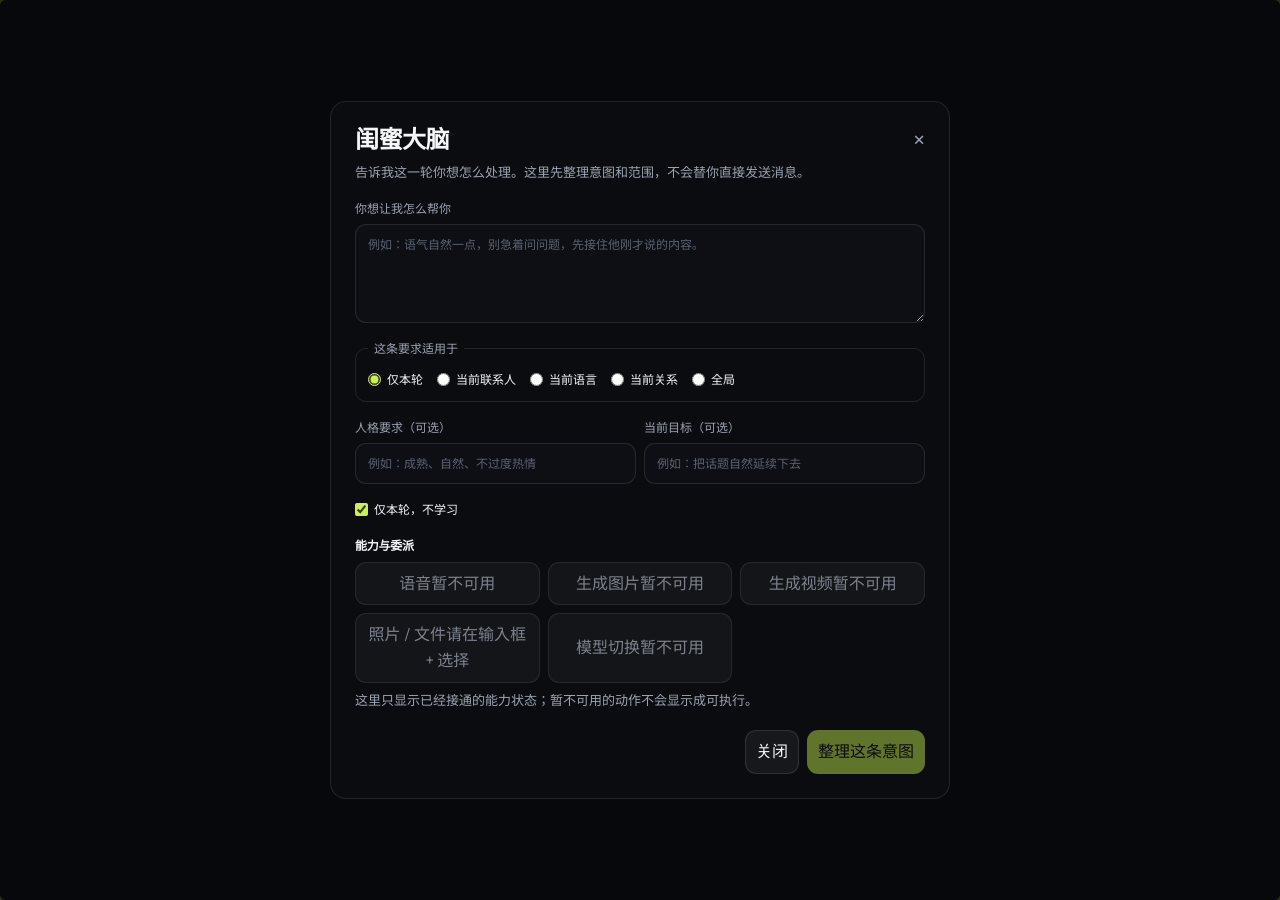
Test case: YanceGirlfriendBrainNativeComposition › stages a semantic intent draft without sending a conversation message
Type "先接住对方刚才的信息，再自然延续。" into the text box labelled "你想让我怎么帮你".
click(640, 273); type("先接住对方刚才的信息，再自然延续。")  # box top-left (355, 224), bottom-right (925, 323)
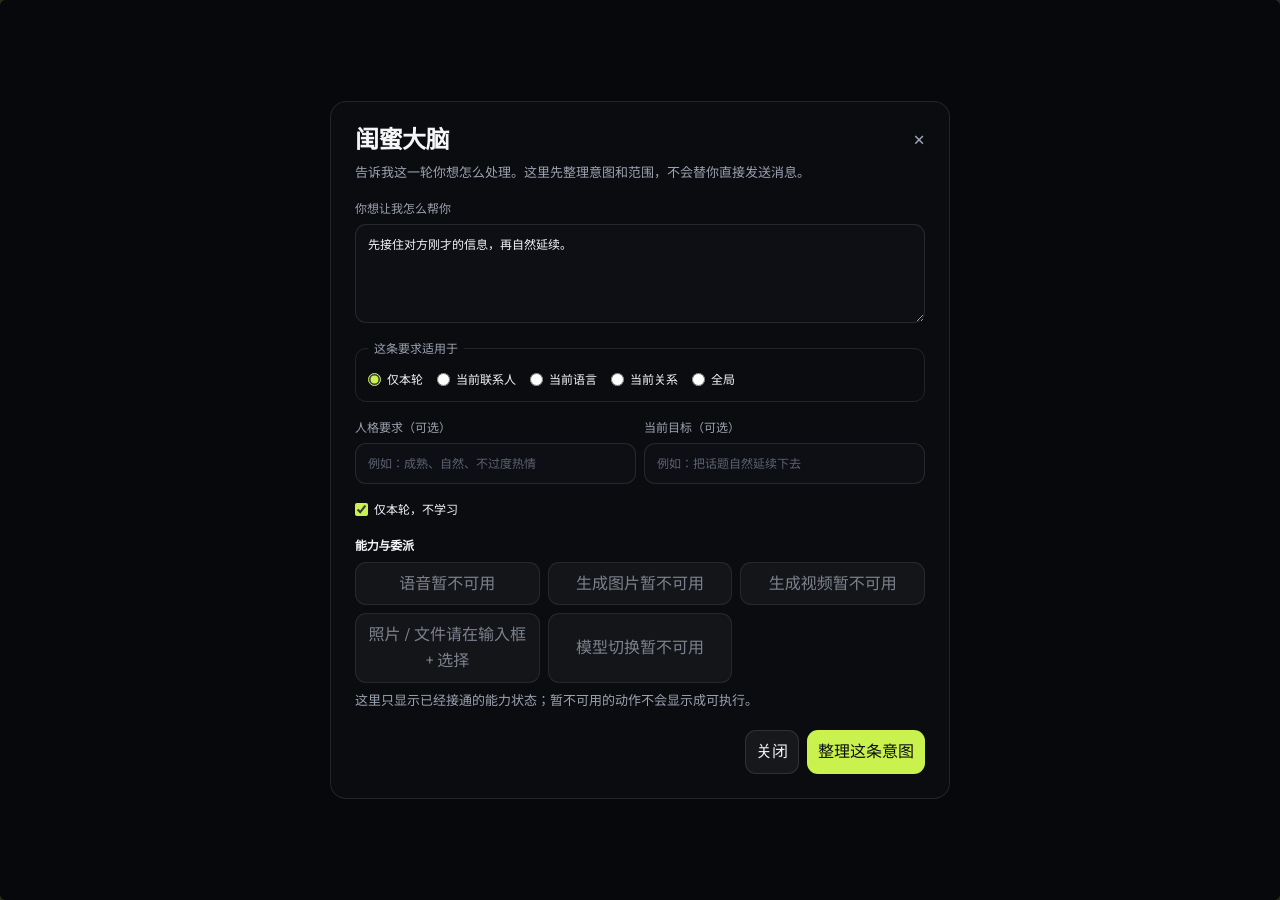
Click the radio button labelled "当前联系人".
click(444, 379)  # box top-left (437, 373), bottom-right (450, 386)
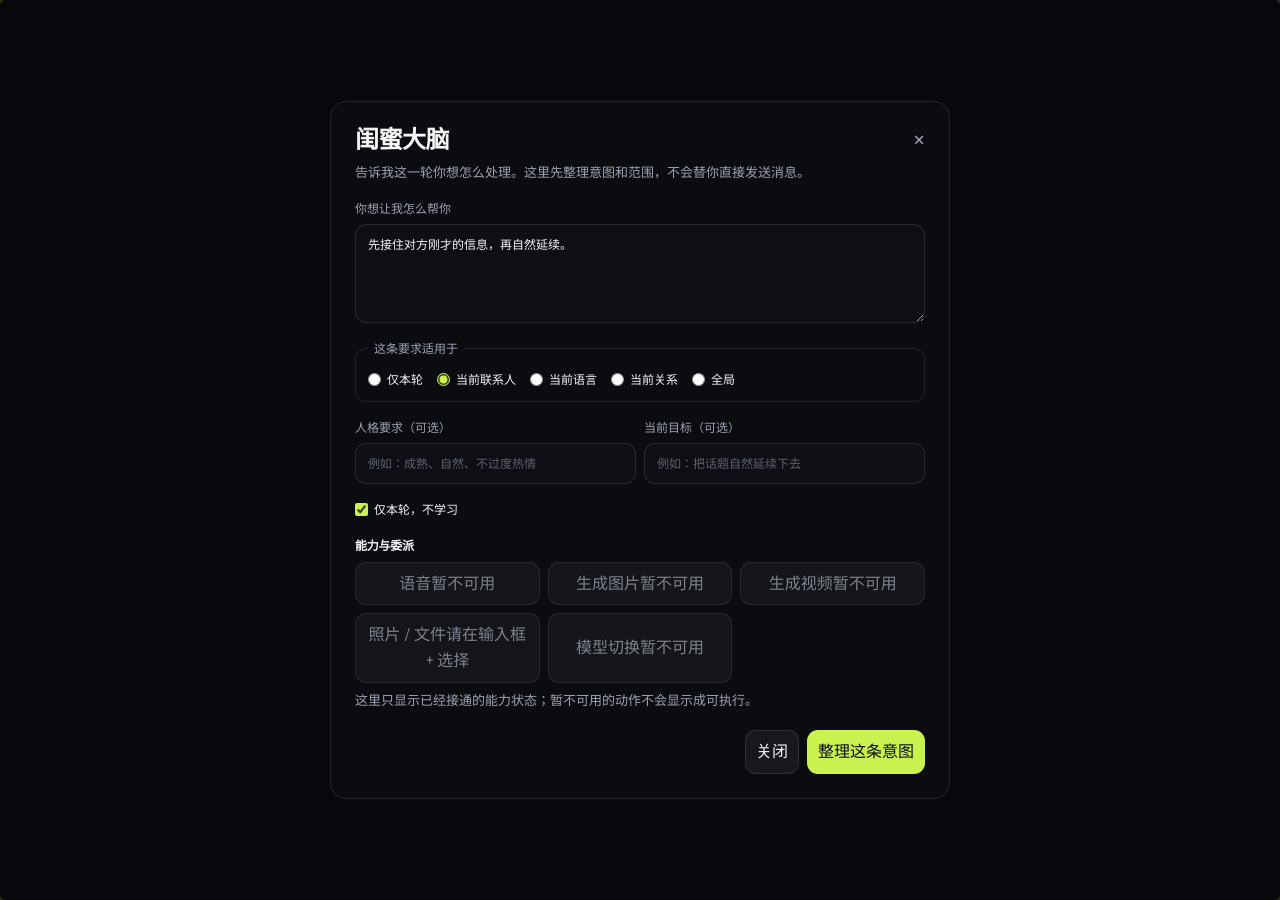
Type "成熟自然" into the field labelled "人格要求（可选）".
click(496, 464); type("成熟自然")  # box top-left (355, 443), bottom-right (636, 484)
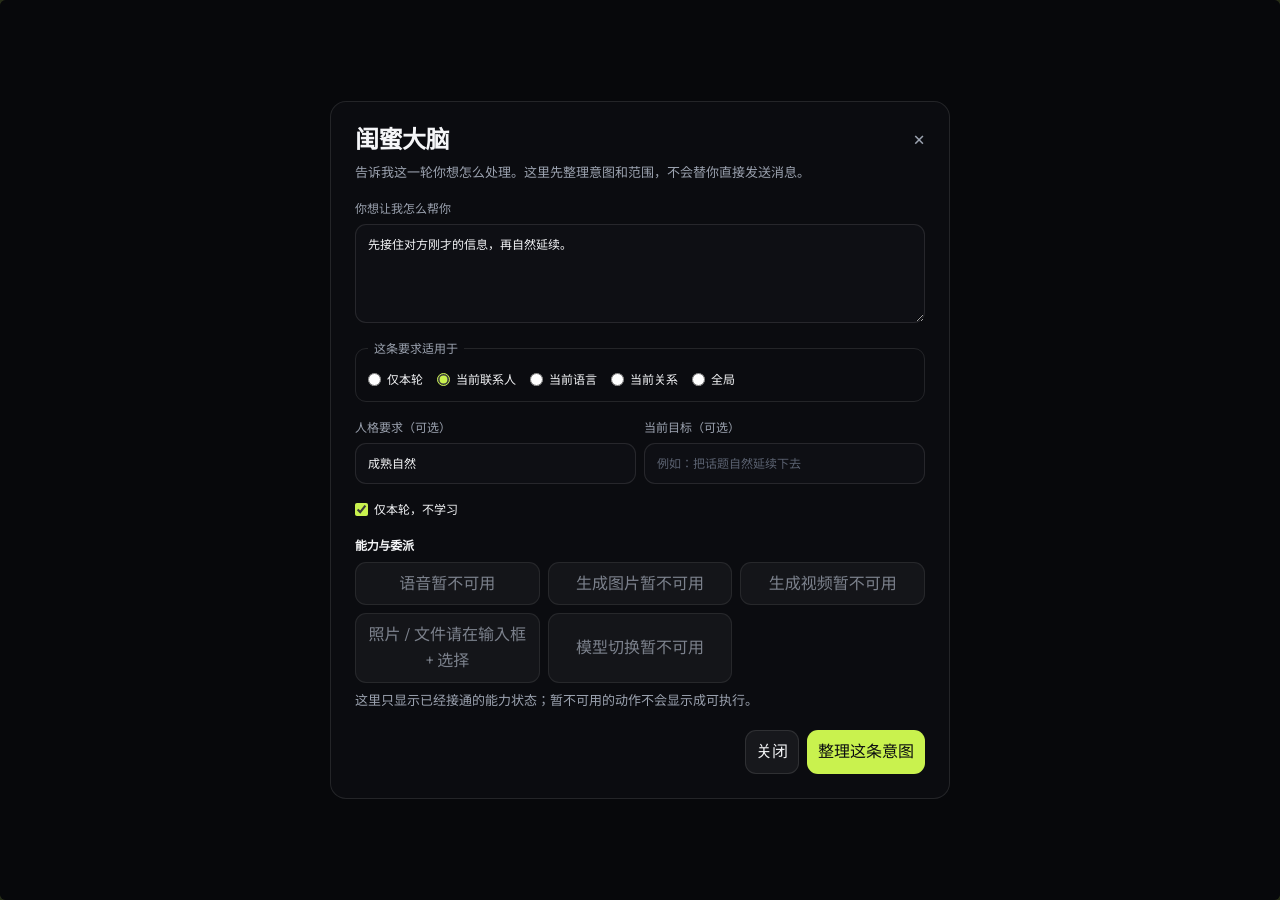
Type "继续聊天" into the field labelled "当前目标（可选）".
click(784, 464); type("继续聊天")  # box top-left (644, 443), bottom-right (925, 484)
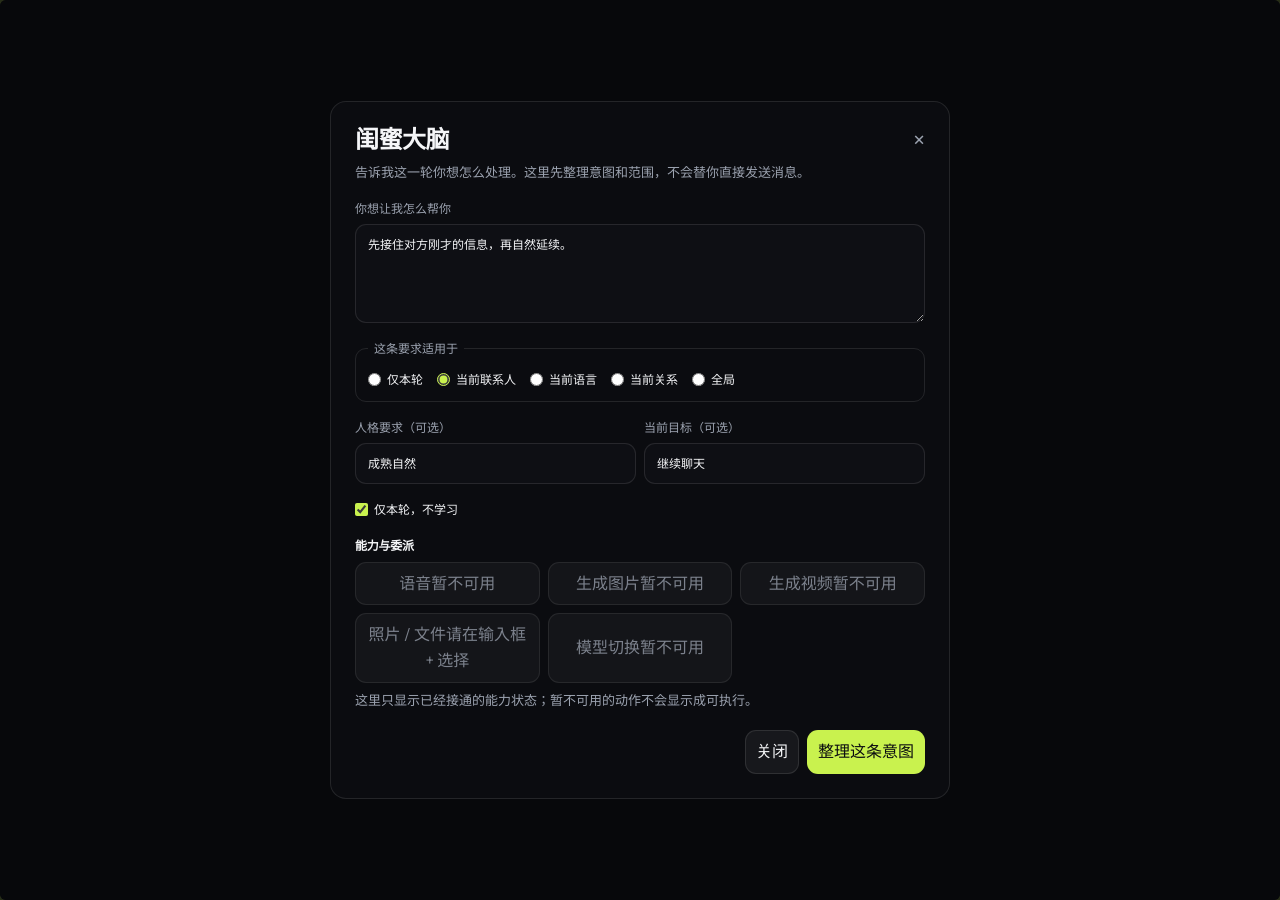
Click the button "整理这条意图".
click(866, 752)  # box top-left (807, 730), bottom-right (925, 774)
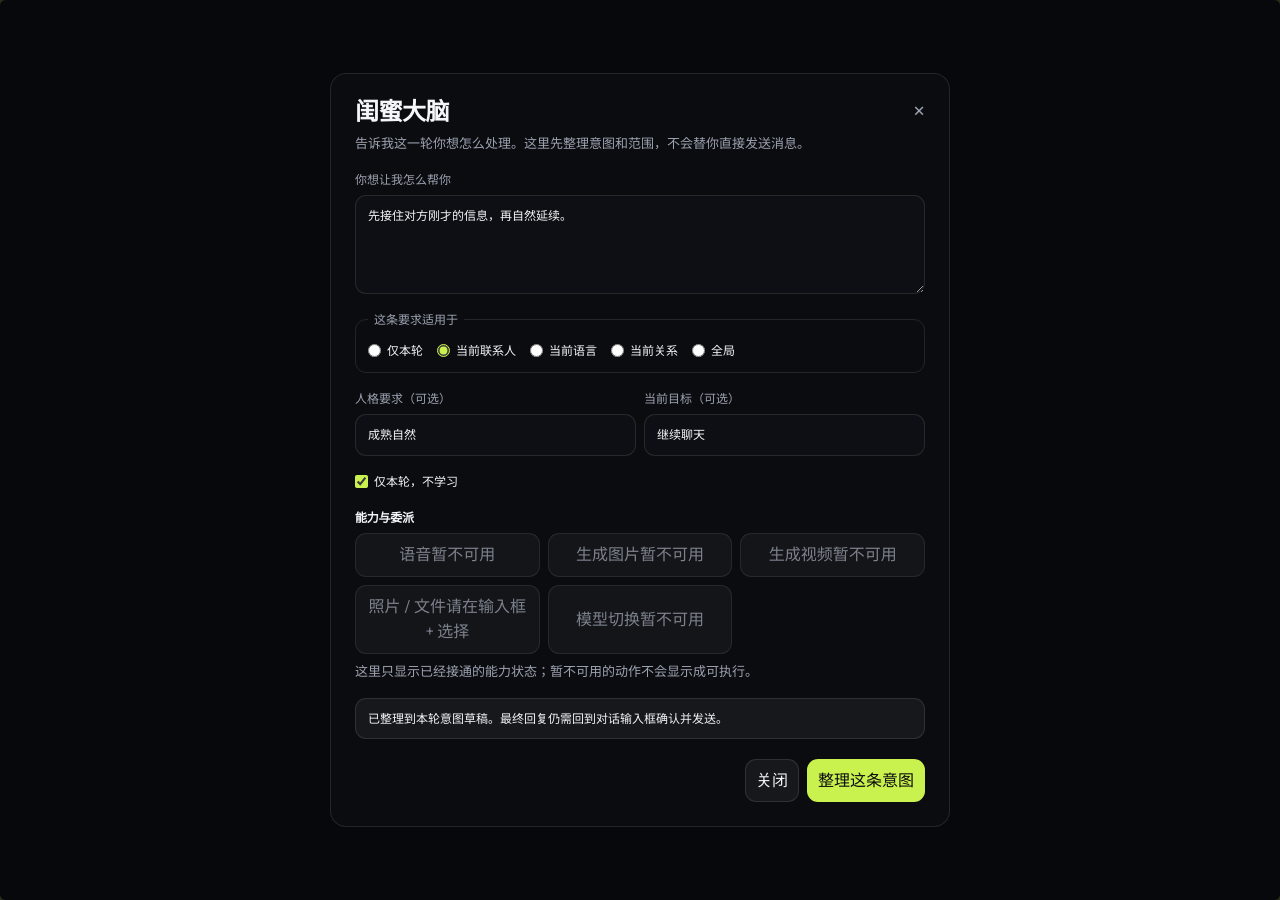
expect the text "已整理到本轮意图草稿。最终回复仍需回到对话输入框确认并发送。" is shown: met, box top-left (355, 698), bottom-right (925, 739)
expect the text "最终回复仍需回到对话输入框确认并发送" is shown: met, box top-left (368, 710), bottom-right (728, 726)
